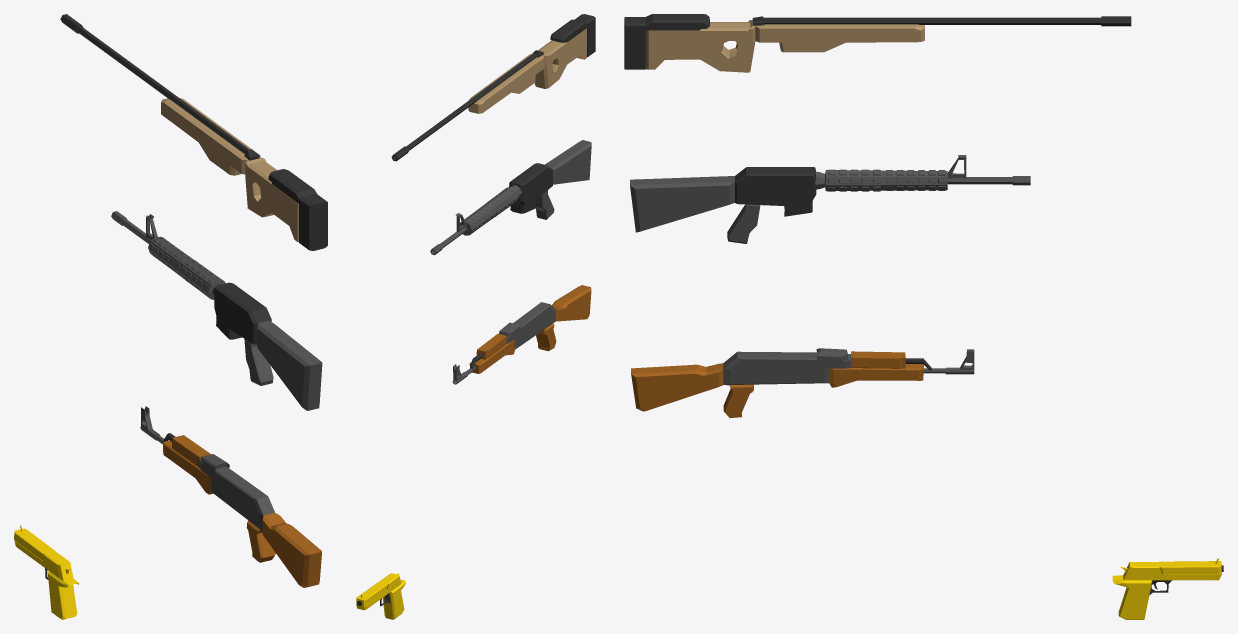
The model's file is guns.fbx.
3 views of the same model, side by side, from view 1: azimuth 30°, elevation 25°; view 2: azimuth 150°, elevation 25°; view 3: azimuth 270°, elevation 25° (orthographic). The views are drawn at different scales.
Parts seen in each view (by area): view 1: Cube_2, butt, removeableButt, metalCase, Cube_3, body, Tube, frontWood, Cylinder, handle_2, Array_11, handle (+3 smaller); view 2: Cube_2, butt, body, metalCase, removeableButt, Tube, Cube_3, frontWood, Cylinder, Array_11, handle_2, barrelHold (+3 smaller); view 3: Cube_2, butt, metalCase, body, removeableButt, Tube, frontWood, Cube_3, Cylinder, Array_11, handle_2, slide (+2 smaller).
Boxes of the visible parts, <box> form: Cube_2: <box>161,98,298,242</box>; butt: <box>257,320,322,410</box>; removeableButt: <box>262,513,321,587</box>; metalCase: <box>199,454,274,530</box>; Cube_3: <box>268,169,327,250</box>; body: <box>214,282,271,344</box>; Tube: <box>60,14,249,153</box>; frontWood: <box>163,435,212,494</box>; Cylinder: <box>148,236,225,299</box>; handle_2: <box>48,571,78,619</box>; Array_11: <box>149,236,221,296</box>; handle: <box>244,339,273,385</box>; Cube_2: <box>468,28,586,113</box>; butt: <box>545,140,591,184</box>; body: <box>509,163,552,213</box>; metalCase: <box>499,302,555,349</box>; removeableButt: <box>552,285,591,321</box>; Tube: <box>391,52,537,161</box>; Cube_3: <box>550,14,595,57</box>; frontWood: <box>469,334,514,373</box>; Cylinder: <box>460,185,522,235</box>; Array_11: <box>460,187,517,235</box>; handle_2: <box>382,579,405,619</box>; barrelHold: <box>356,581,387,606</box>; Cube_2: <box>645,20,924,72</box>; butt: <box>630,176,734,232</box>; metalCase: <box>723,348,850,385</box>; body: <box>735,167,816,216</box>; removeableButt: <box>631,363,723,411</box>; Tube: <box>763,16,1131,26</box>; frontWood: <box>829,351,923,387</box>; Cube_3: <box>624,14,709,69</box>; Cylinder: <box>815,170,947,191</box>; Array_11: <box>828,169,945,191</box>; handle_2: <box>1112,575,1152,619</box>; slide: <box>1120,562,1221,580</box>.
Size of the model in its own units: 50 by 1470 by 1330.
